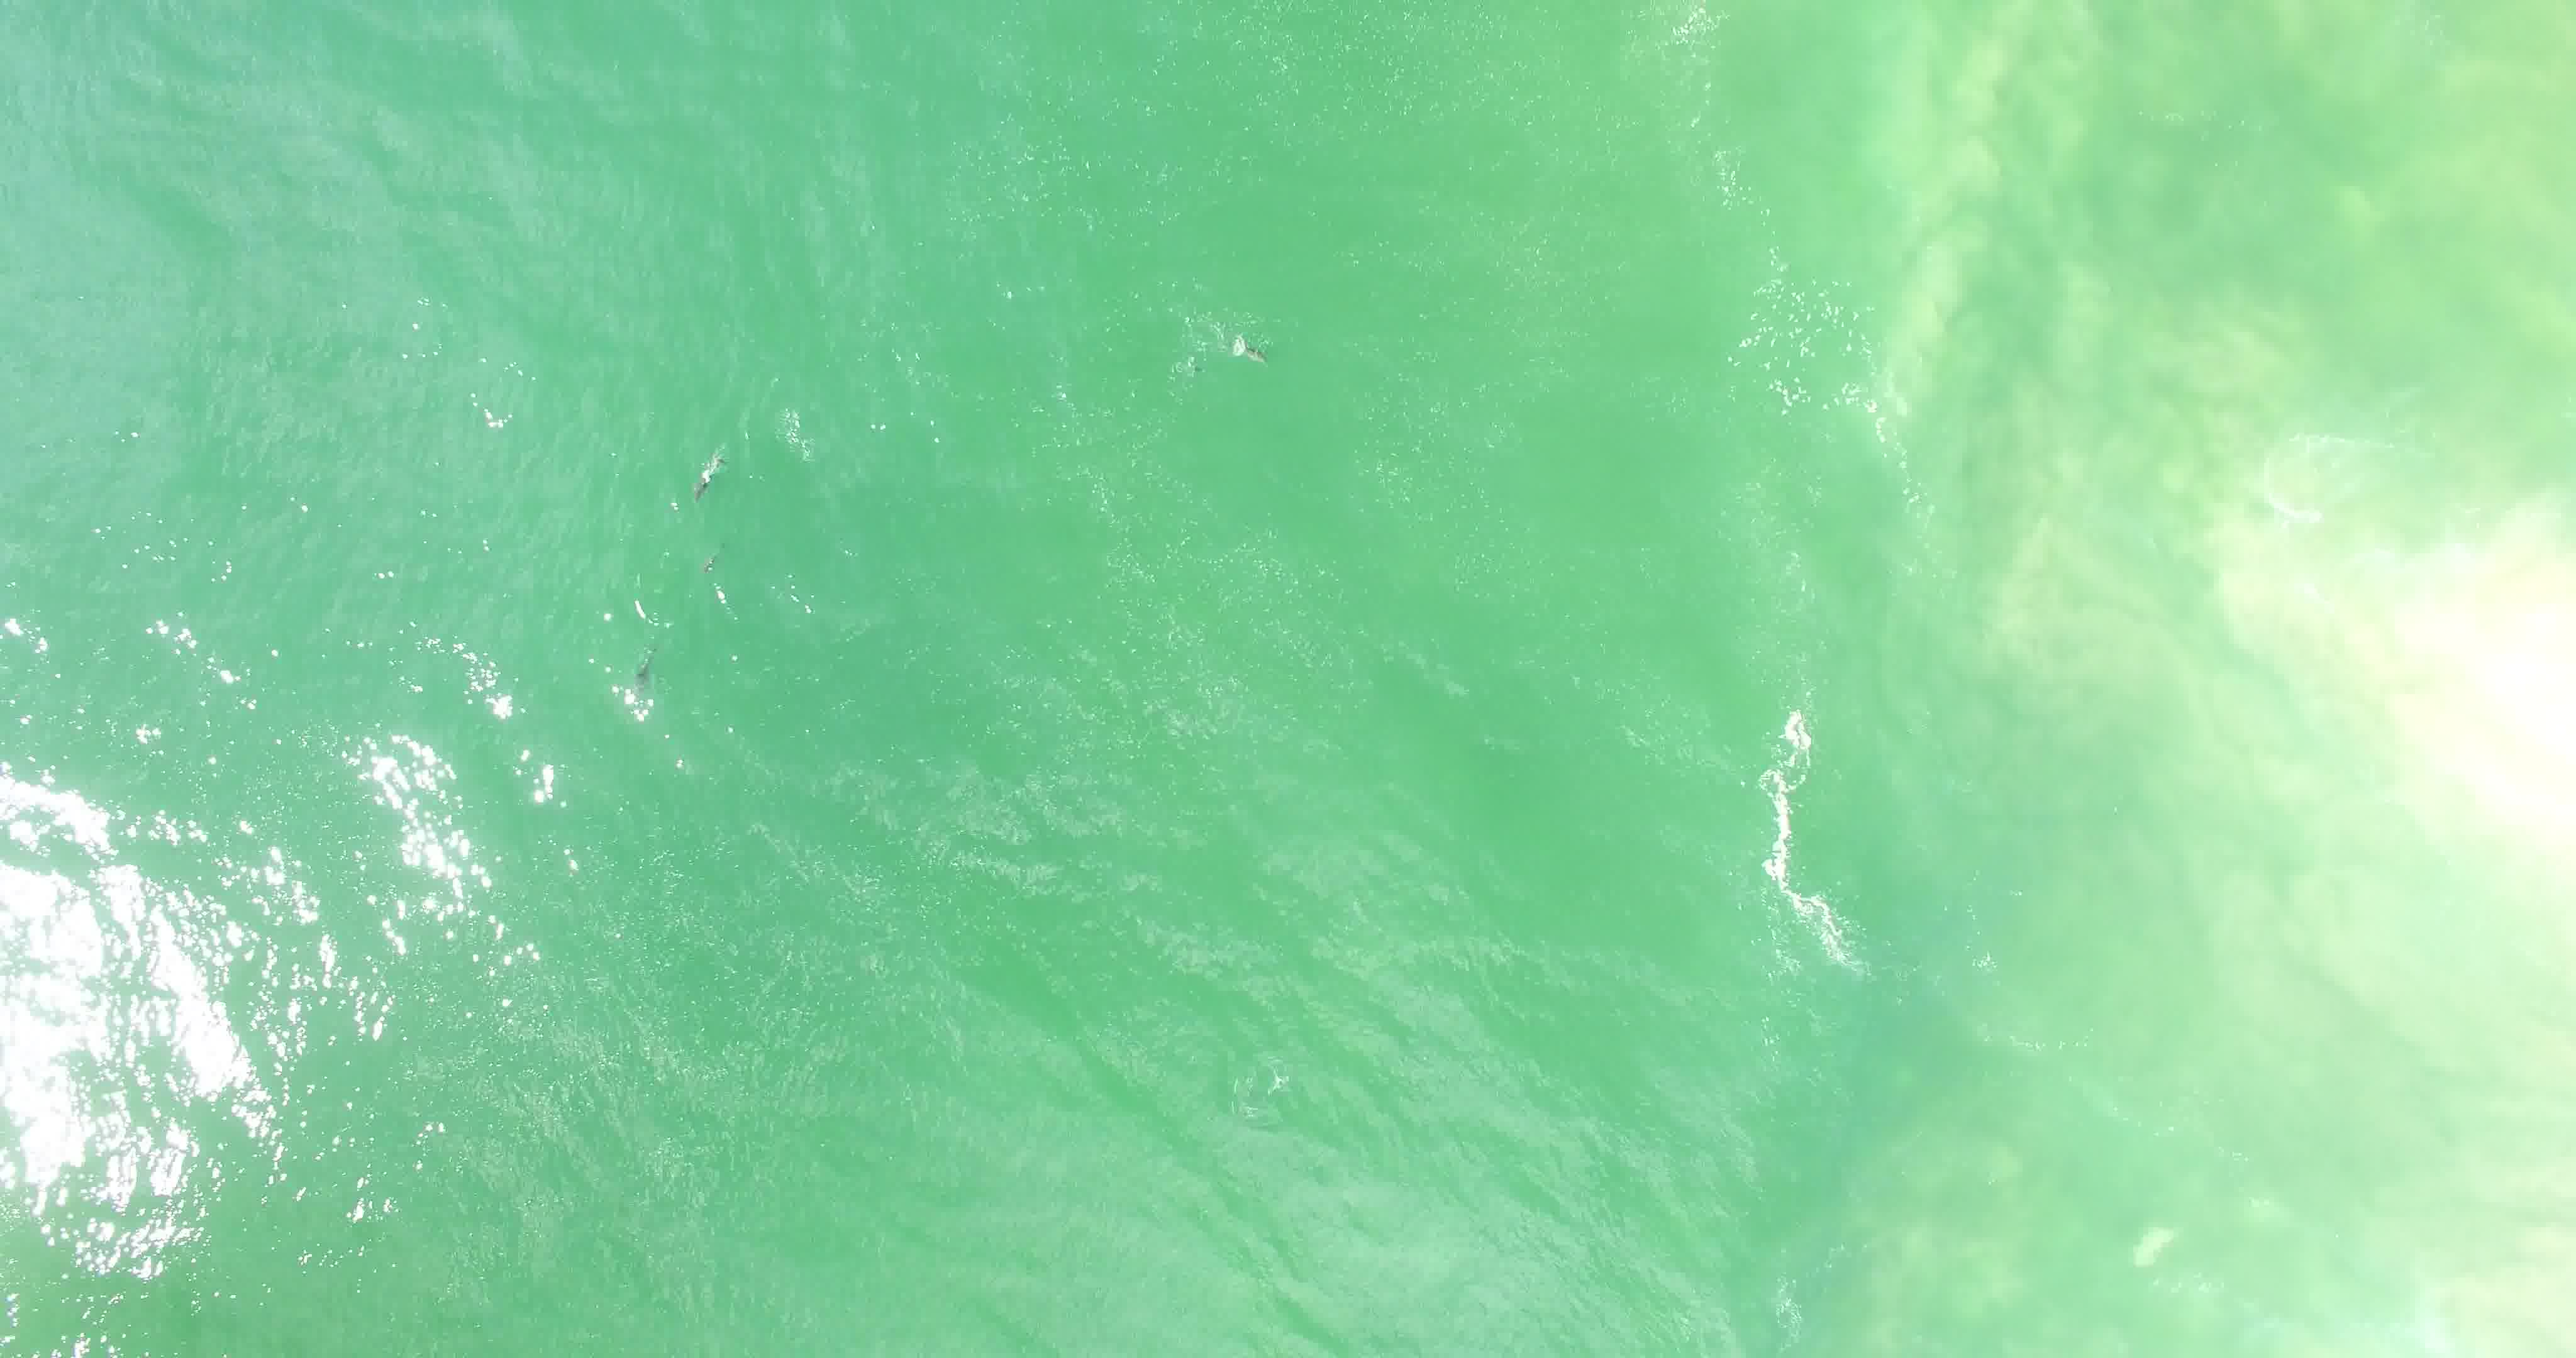dolphin: (1198, 314, 1281, 377), (670, 434, 729, 504), (622, 630, 675, 693)
